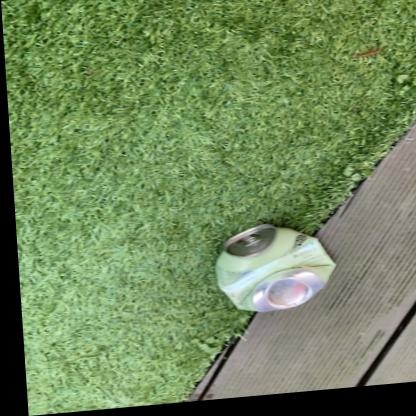trash: (216, 224, 334, 311)
